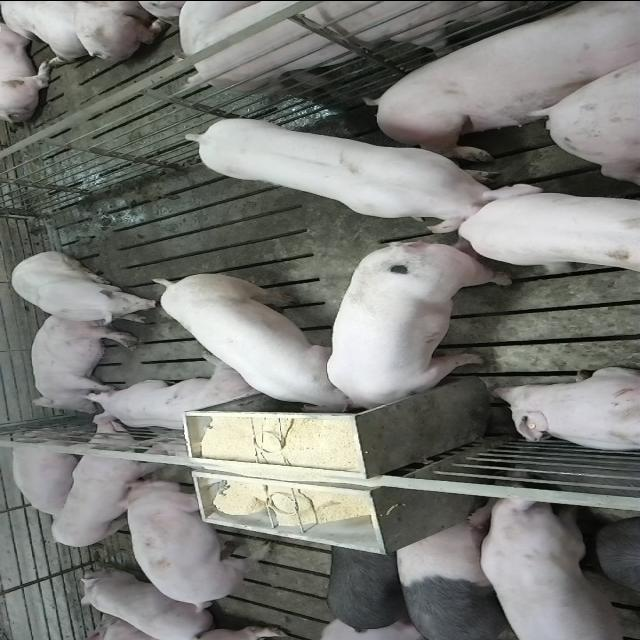Feeding: (324, 245, 514, 420), (144, 267, 356, 410)
Lateral_lying: (28, 311, 139, 414)
Sitting: (8, 250, 160, 324)
Standing: (166, 0, 639, 96), (186, 116, 520, 230), (477, 495, 639, 640), (116, 476, 270, 608), (390, 515, 526, 638), (459, 177, 640, 269), (324, 532, 418, 633)
Sternal_lying: (489, 365, 640, 453), (85, 359, 265, 432), (76, 568, 222, 638), (10, 429, 91, 519)
